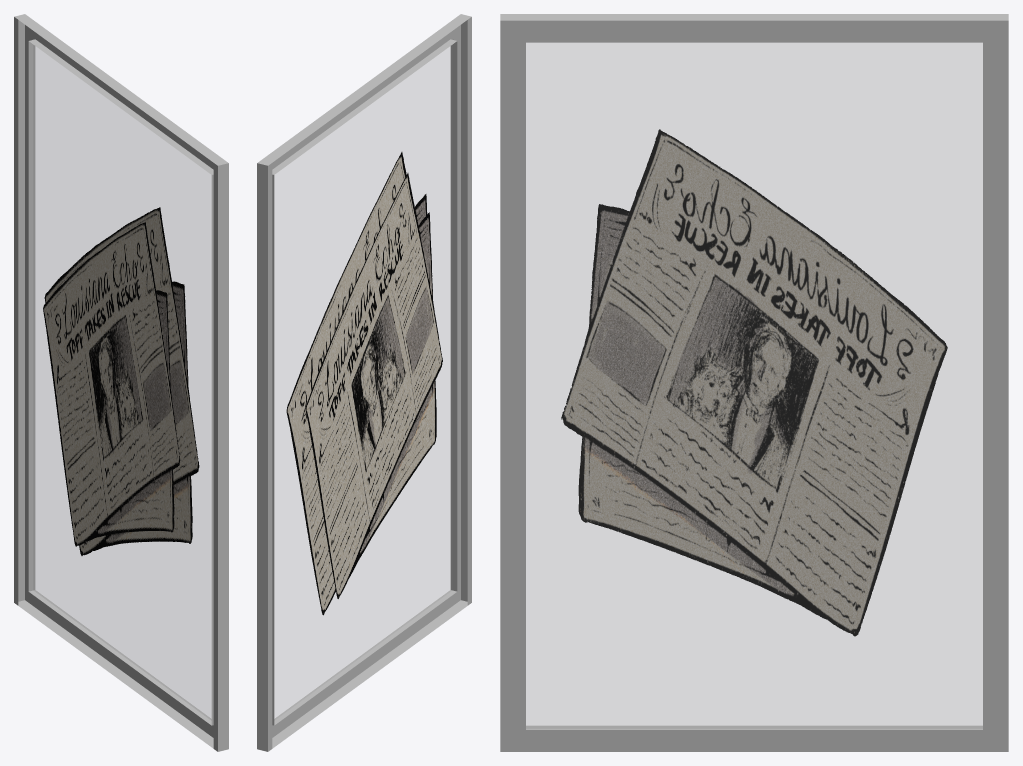
File: Newspaper.fbx
3 renders of one model, left to right at view 1: azimuth 30°, elevation 25°; view 2: azimuth 150°, elevation 25°; view 3: azimuth 270°, elevation 25°, orthographic. The views are drawn at different scales.
Visible parts, largest first — view 1: pasted__pCube854, pCube1298, pCube1297; view 2: pasted__pCube854, pCube1298, pCube1297; view 3: pasted__pCube854, pCube1298, pCube1297.
Boxes of the visible parts, box(x1,y1,x2,y2) form: pasted__pCube854: box(32, 39, 211, 718); pCube1298: box(43, 207, 199, 555); pCube1297: box(14, 14, 228, 751); pasted__pCube854: box(274, 39, 453, 718); pCube1298: box(286, 152, 442, 615); pCube1297: box(257, 14, 471, 751); pasted__pCube854: box(526, 43, 982, 728); pCube1298: box(561, 129, 947, 636); pCube1297: box(500, 14, 1008, 751).
Bounding box in the file's own units: 6.71 × 246 × 155.
